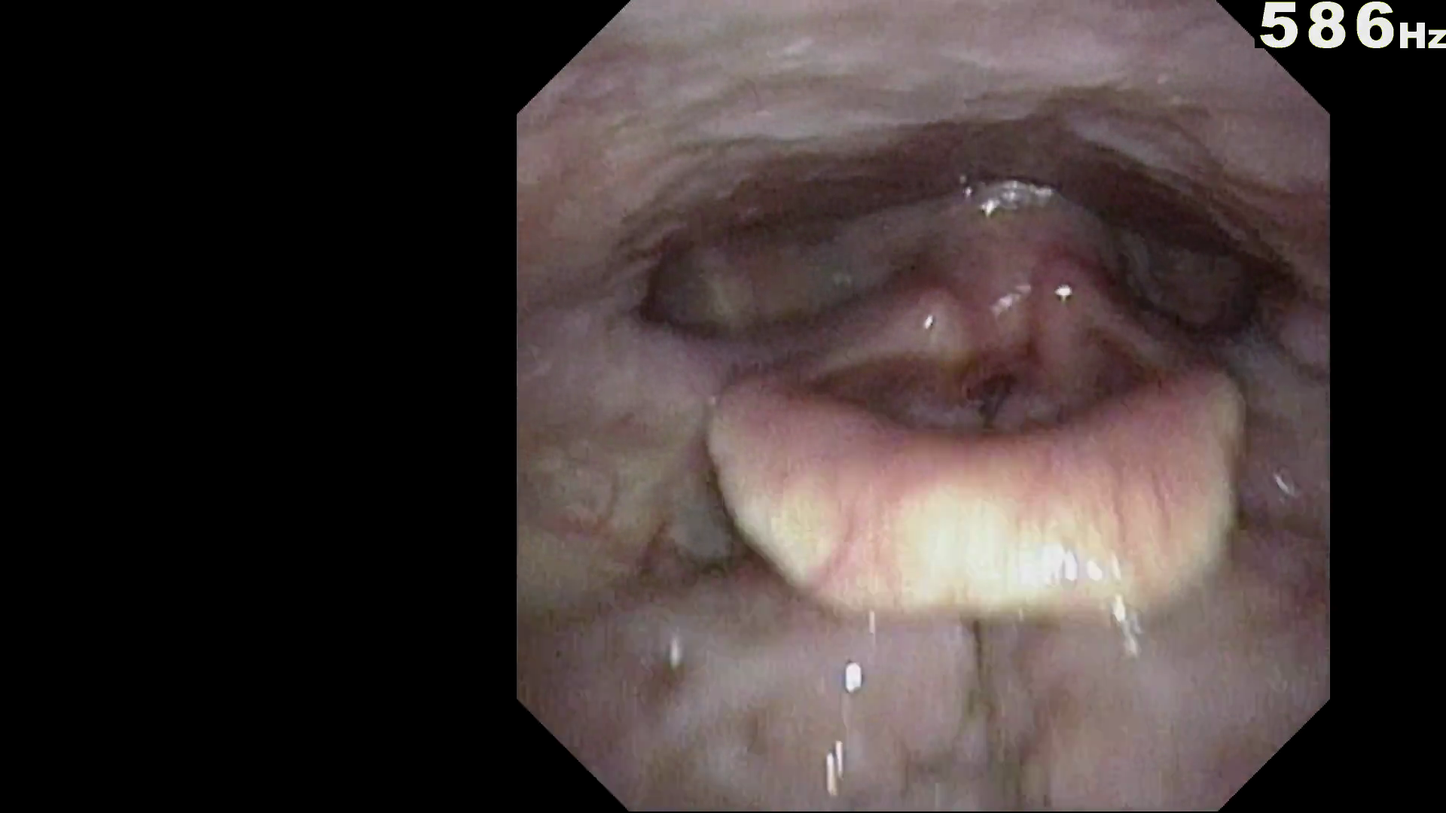epiglottis: (683, 340, 1271, 540)
